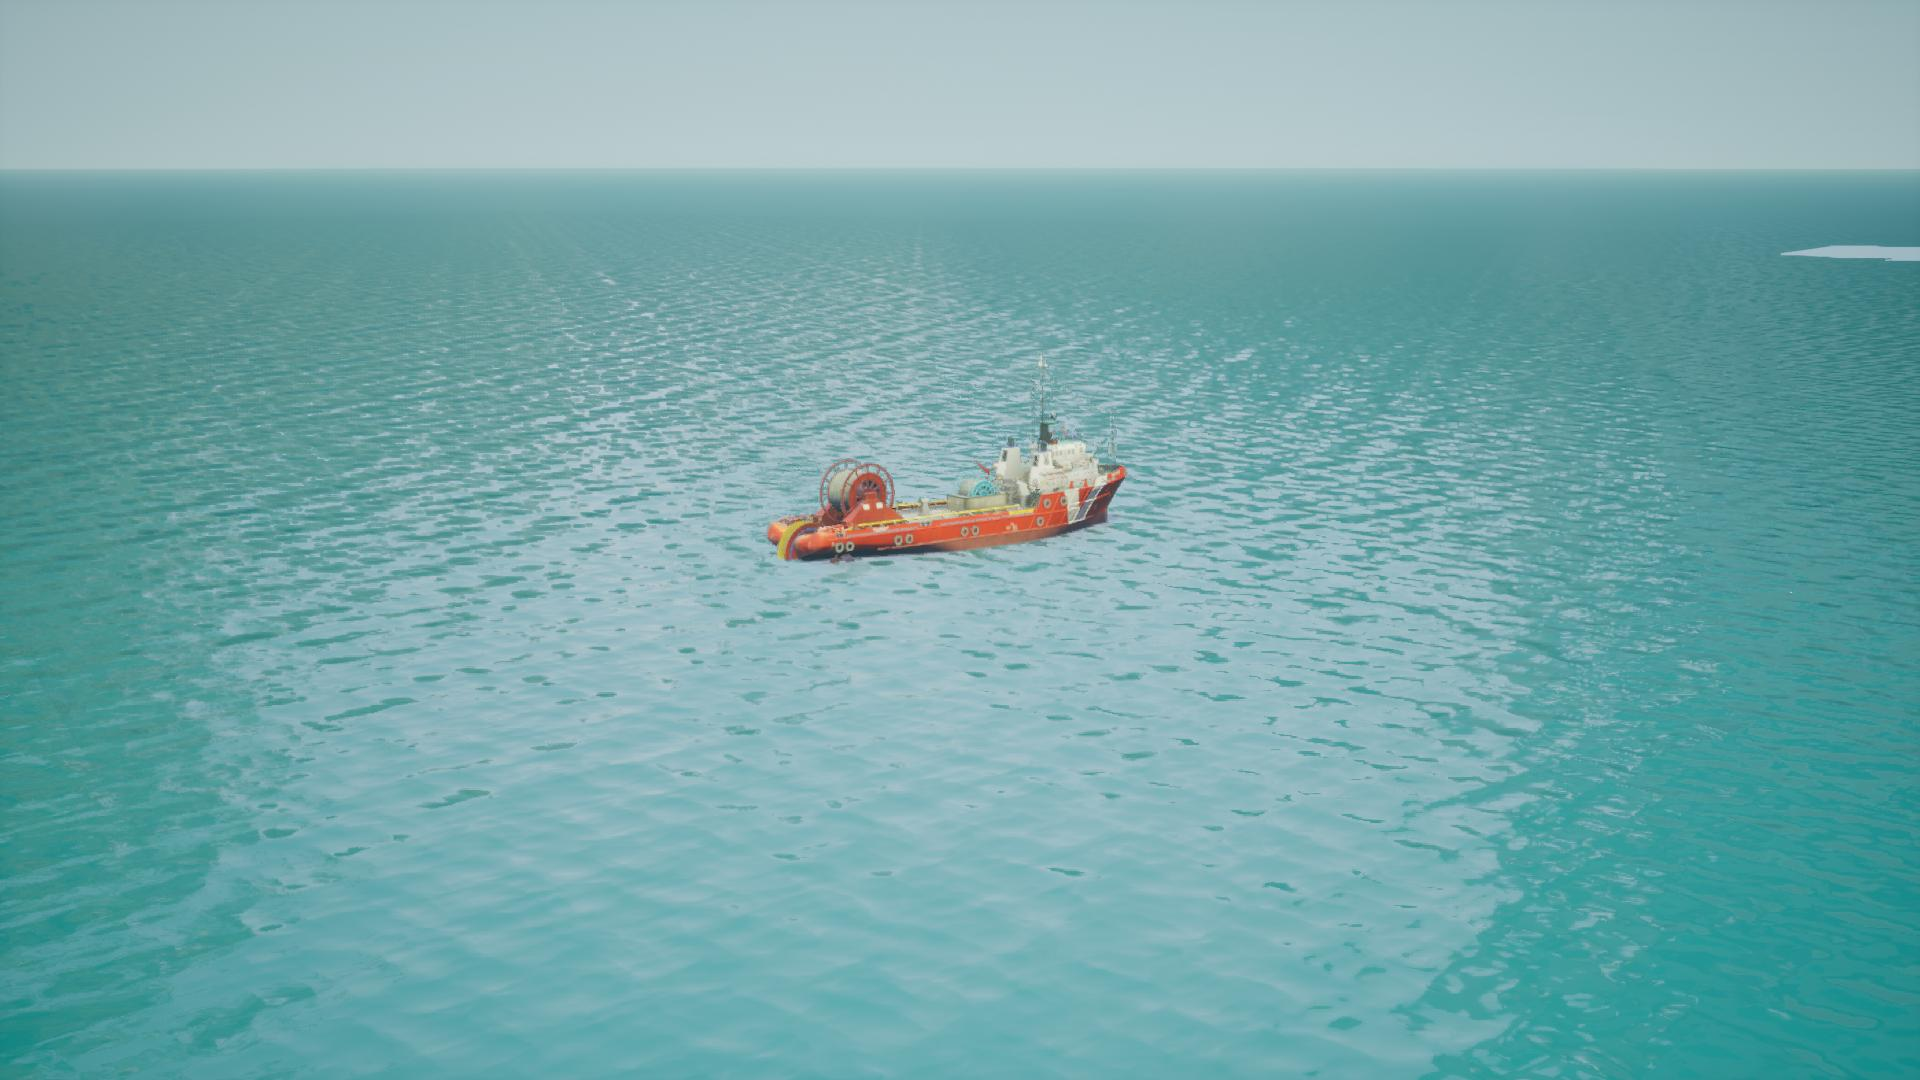Tug Boat: (770, 435, 1131, 563)
